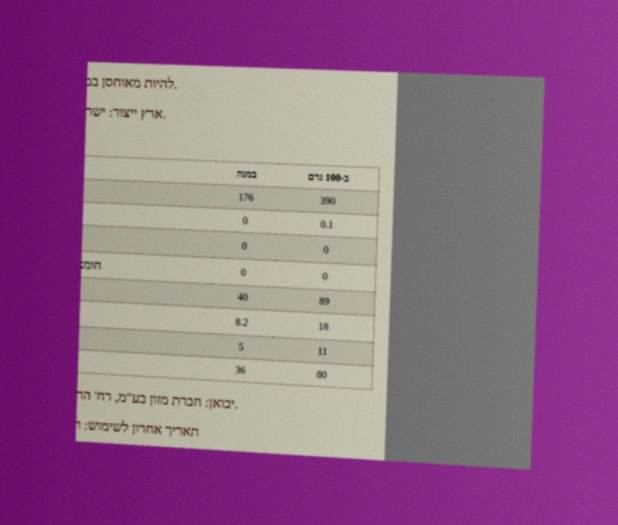carbs: (317, 294, 331, 308)
energy: (318, 194, 337, 208)
fat: (319, 217, 335, 231)
protein: (316, 344, 329, 358)
